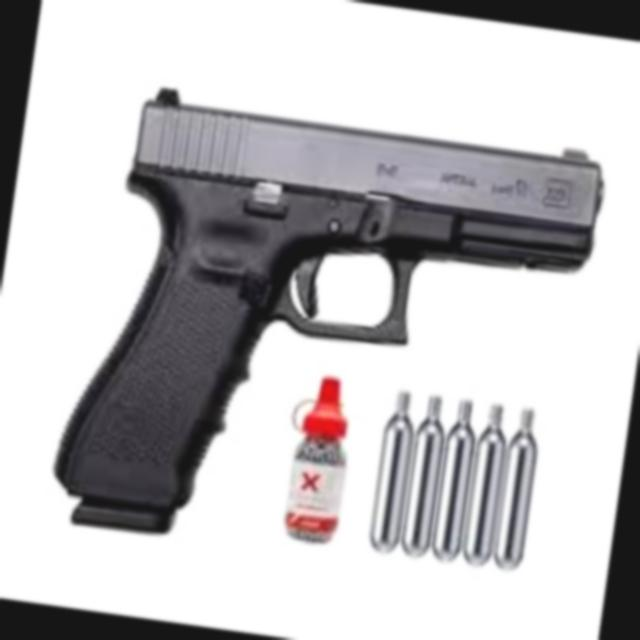semi automatic: (26, 57, 618, 626)
